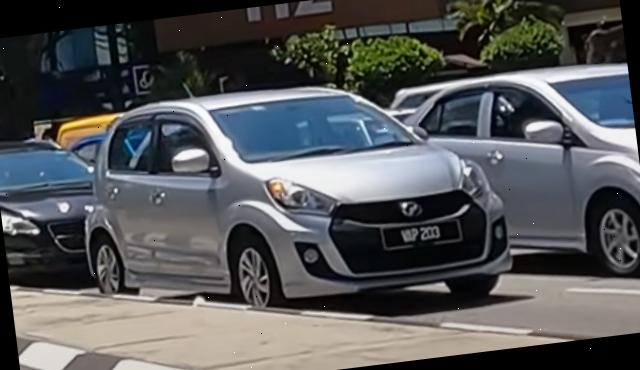License_Plate: (384, 218, 461, 251)
car: (68, 58, 518, 344)
